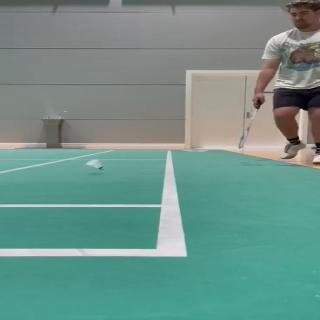Shuttle: (86, 159, 105, 170)
